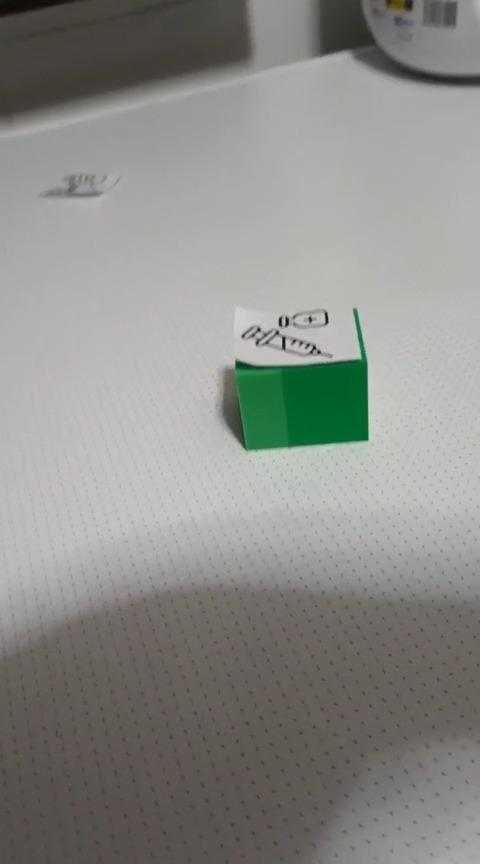antiseptic cream: (230, 303, 370, 452)
